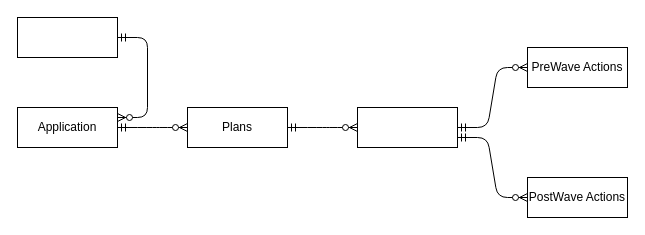
The diagram is 645 pixels wide and 235 high, and some of its shapes have lost their labels. The shapes that lost their labels are listed below. From the top down, each one's centre as x and y in pixels, then its label:
At point 67,37: "Accounts".
At point 407,127: "Waves".
